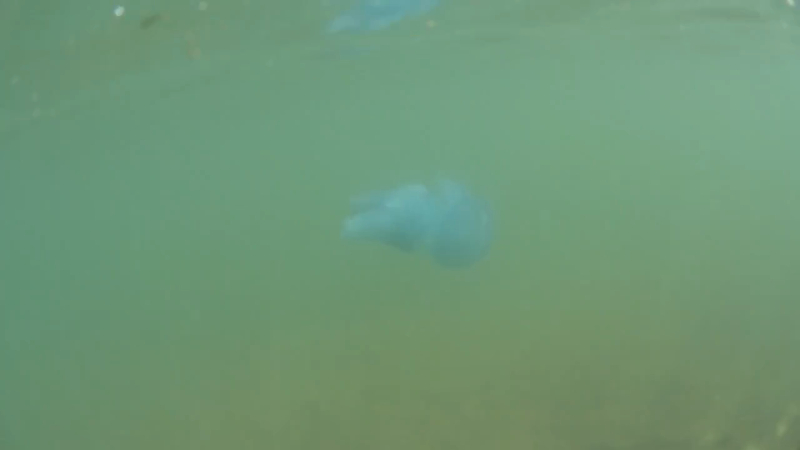blue jellyfish: (340, 176, 496, 273)
